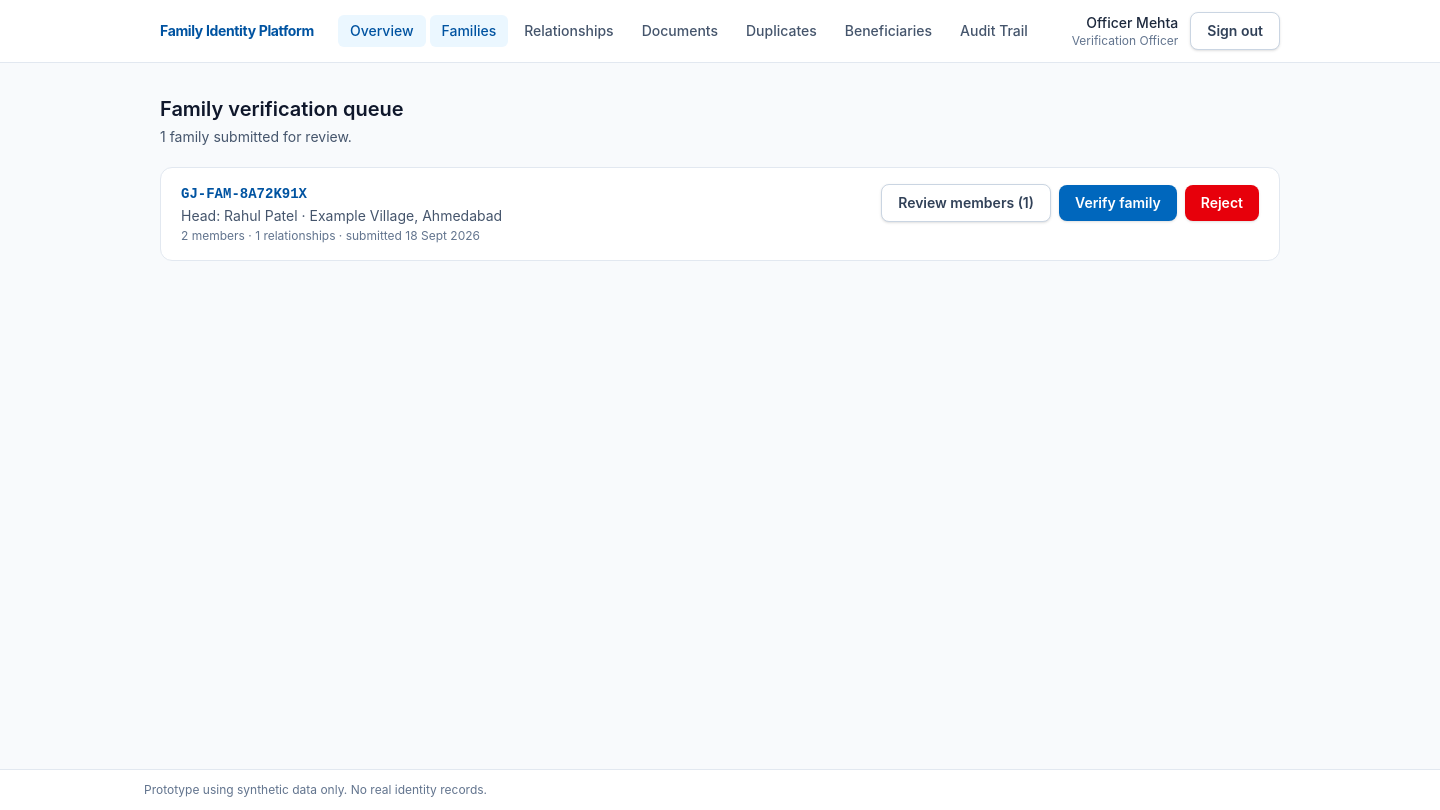
Test: FamilyQueuePage › verifies an individual member
The width and height of the screenshot is (1440, 810).
Click the button "Review members (1)" at (966, 203), box [881,184,1051,222]
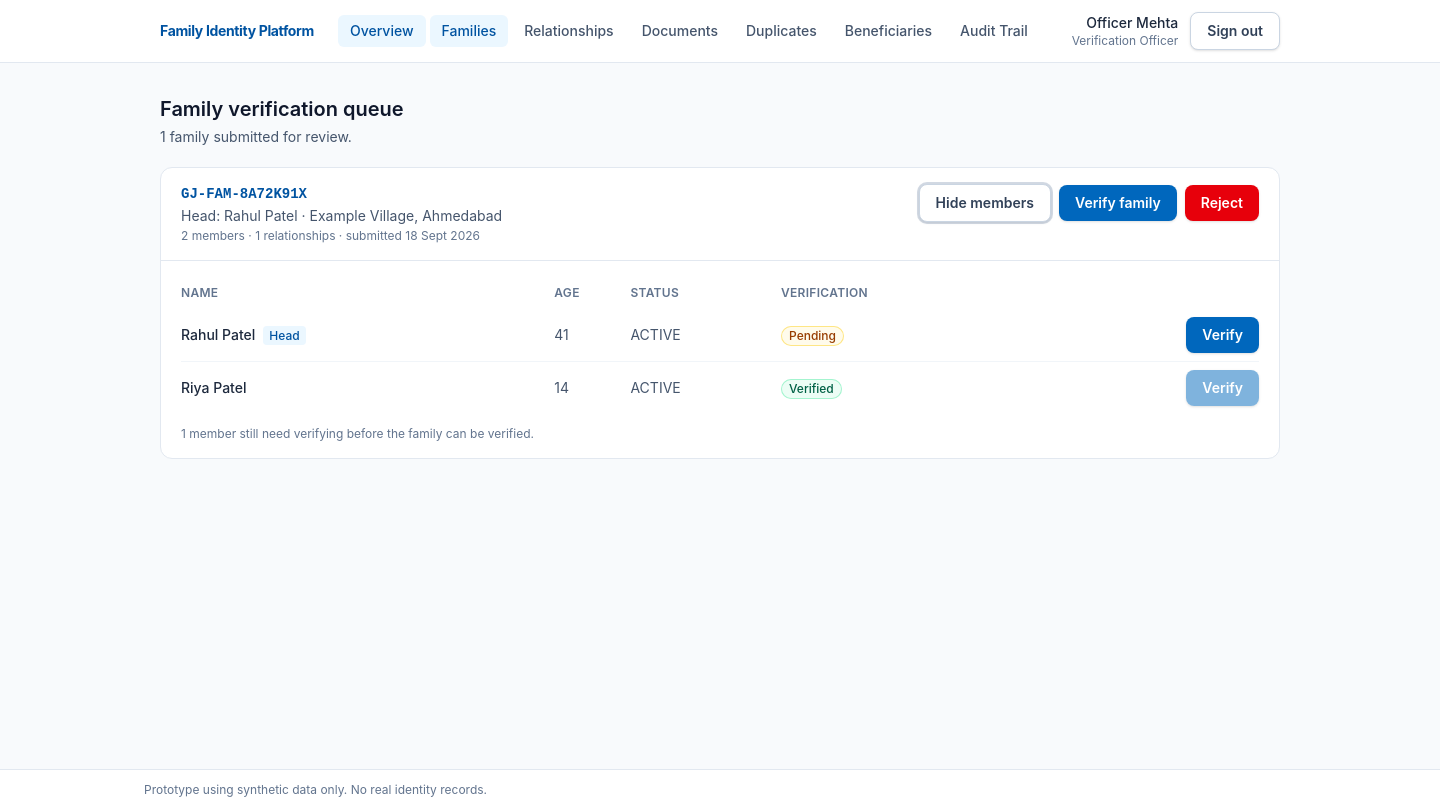
Click the button "Verify" in the row of "41" at (1223, 335), box [1186,317,1259,353]
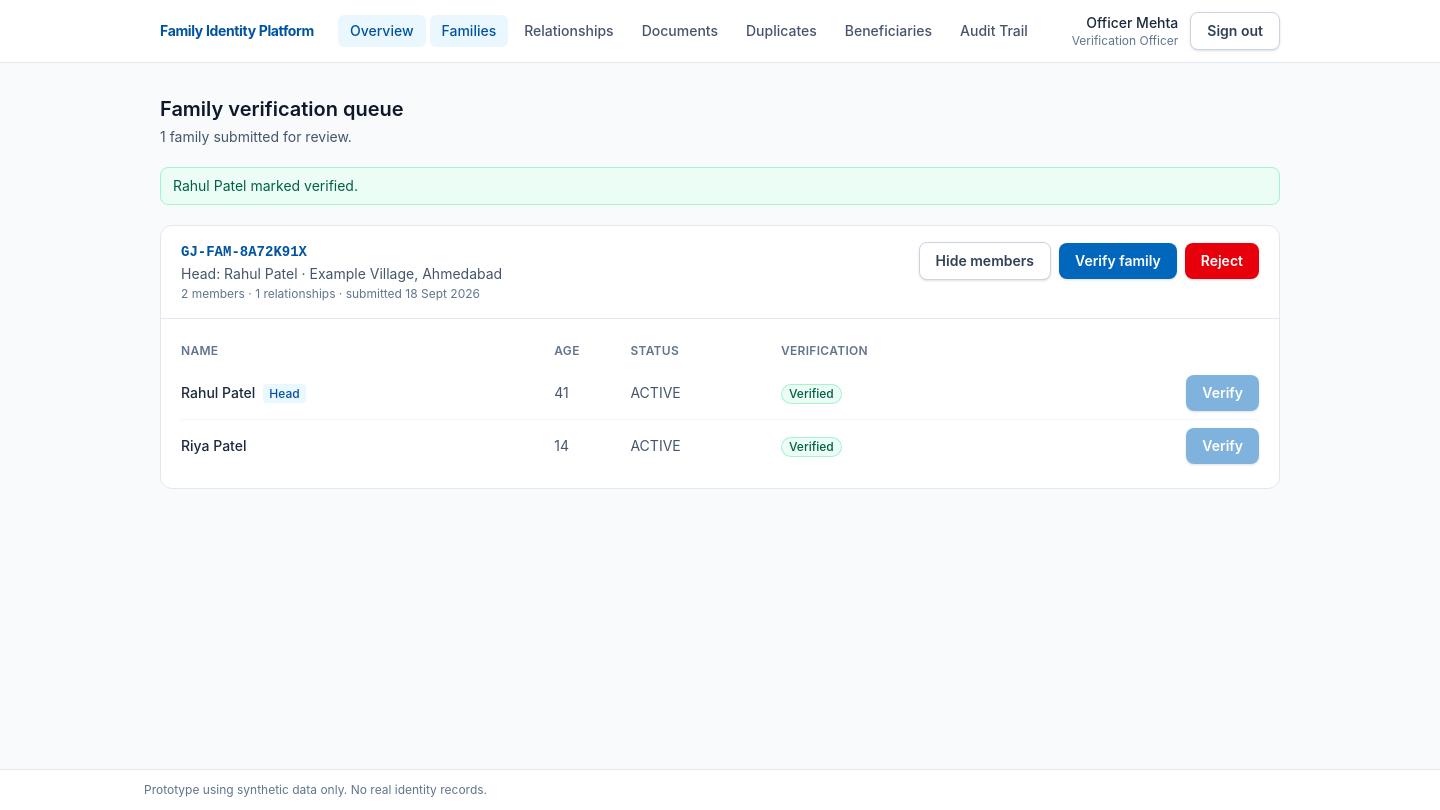
expect the text "Rahul Patel marked verified." is shown: met, box [173,177,358,194]
